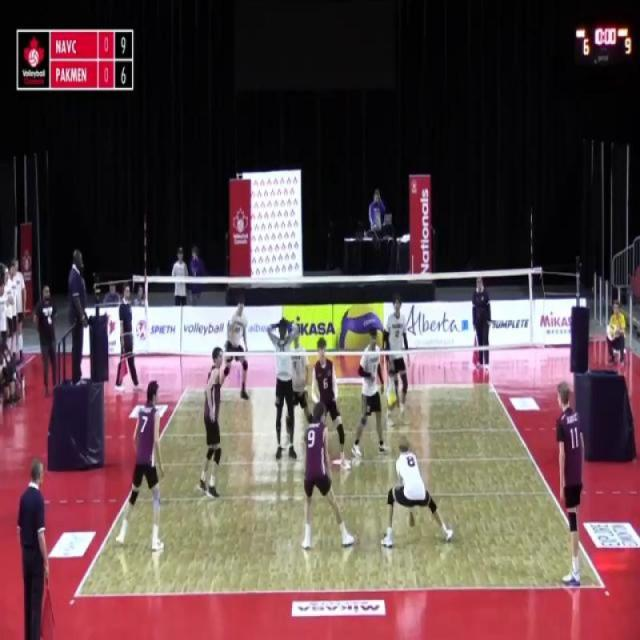volleyball: (334, 301, 384, 351), (386, 391, 398, 412), (609, 324, 615, 338)
